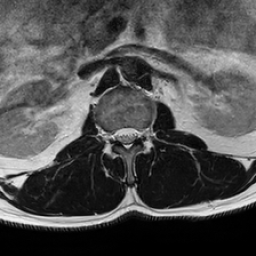CCS_normal: (123, 117, 131, 156)
LFS_normal: (139, 118, 147, 146)
LLS_normal: (131, 118, 139, 148)
RFS_normal: (106, 121, 114, 148)
RLS_normal: (114, 120, 123, 148)
